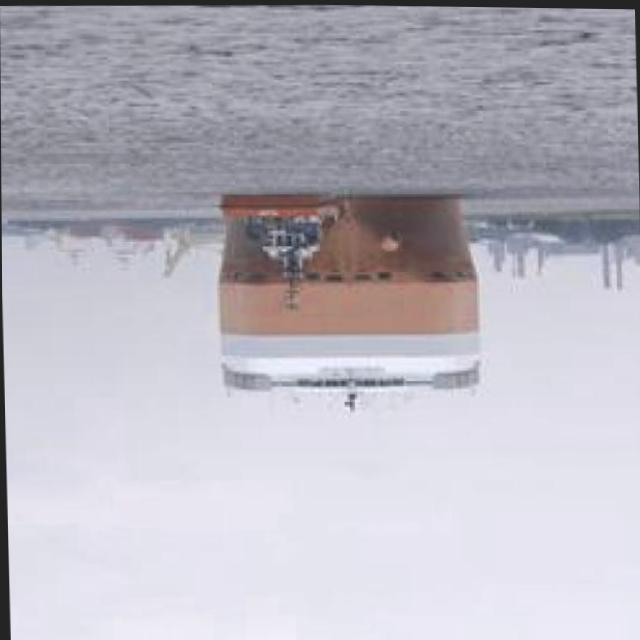ship2: (215, 190, 481, 412)
